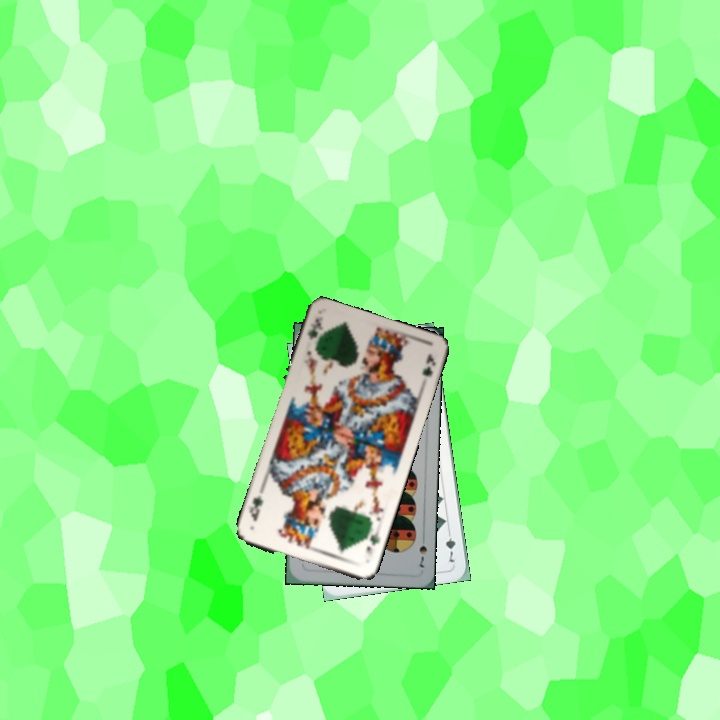G7: (442, 526, 458, 565)
GK: (362, 526, 382, 558), (303, 314, 324, 343)
S7: (415, 541, 429, 570)
